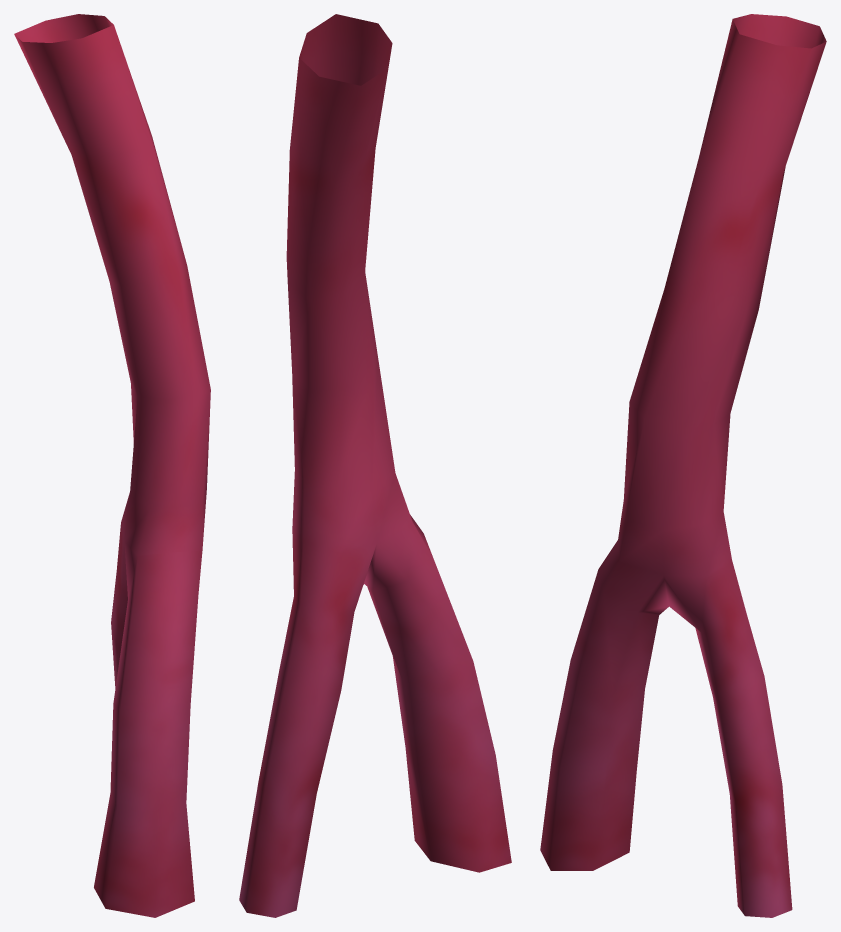
File: VeinLargeD.fbx
3 views of the same model, side by side, from view 1: azimuth 30°, elevation 25°; view 2: azimuth 150°, elevation 25°; view 3: azimuth 270°, elevation 25° (orthographic). The views are drawn at different scales.
Visible parts, largest first — view 1: VeinLargeD; view 2: VeinLargeD; view 3: VeinLargeD.
Part boxes in pixels (x1=…): VeinLargeD: x1=14, y1=14, x2=210, y2=917; VeinLargeD: x1=239, y1=14, x2=511, y2=917; VeinLargeD: x1=540, y1=14, x2=826, y2=917.
Bounding box in the file's own units: 154 × 768 × 234.
